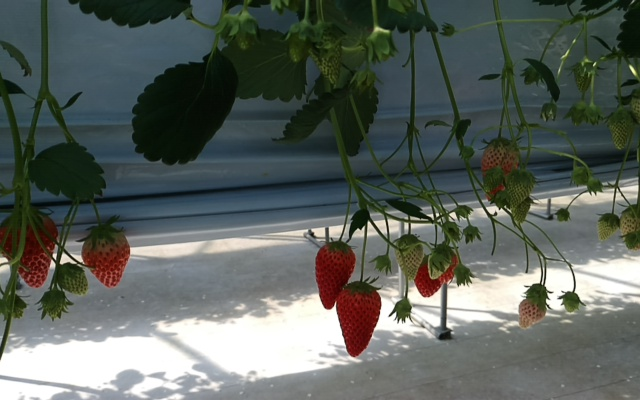GreenStrawberry: (479, 135, 521, 206), (305, 20, 345, 86), (392, 232, 424, 283), (606, 106, 638, 152), (517, 284, 548, 331), (54, 260, 91, 297), (285, 21, 316, 64), (506, 168, 535, 211), (229, 12, 259, 52), (619, 201, 640, 252), (570, 57, 597, 96), (595, 212, 620, 245), (426, 249, 452, 280), (43, 289, 66, 321), (511, 194, 534, 224), (559, 290, 583, 316)
MatureStrawberry: (1, 208, 59, 290), (335, 280, 383, 357), (312, 238, 356, 312), (81, 225, 131, 289), (412, 254, 459, 296)
